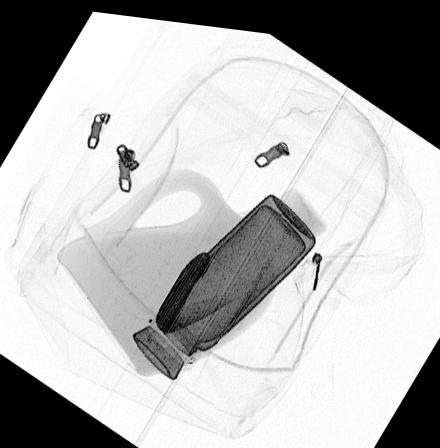Knife: (154, 243, 231, 328)
